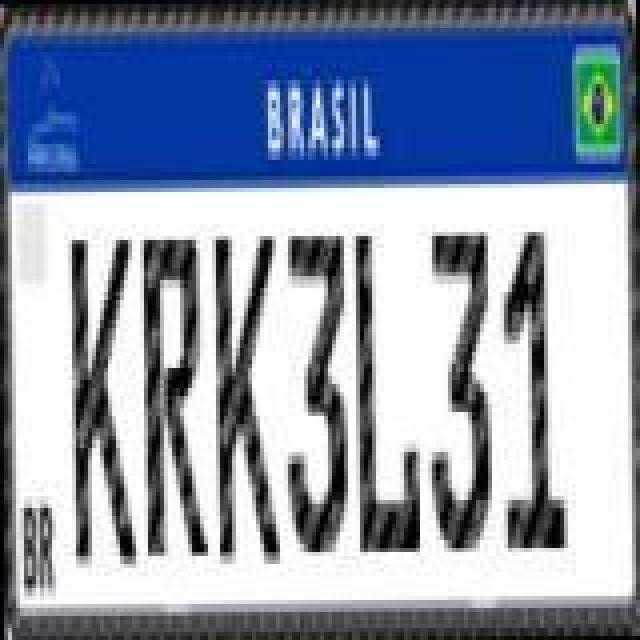1: (500, 228, 572, 556)
3: (280, 230, 352, 554), (424, 230, 496, 554)
K: (212, 234, 284, 566), (70, 232, 138, 568)
L: (348, 230, 420, 554)
R: (142, 238, 210, 562)
